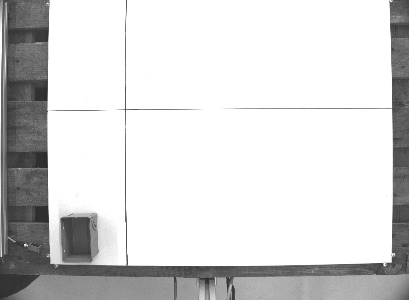kltxs: (57, 210, 101, 265)
